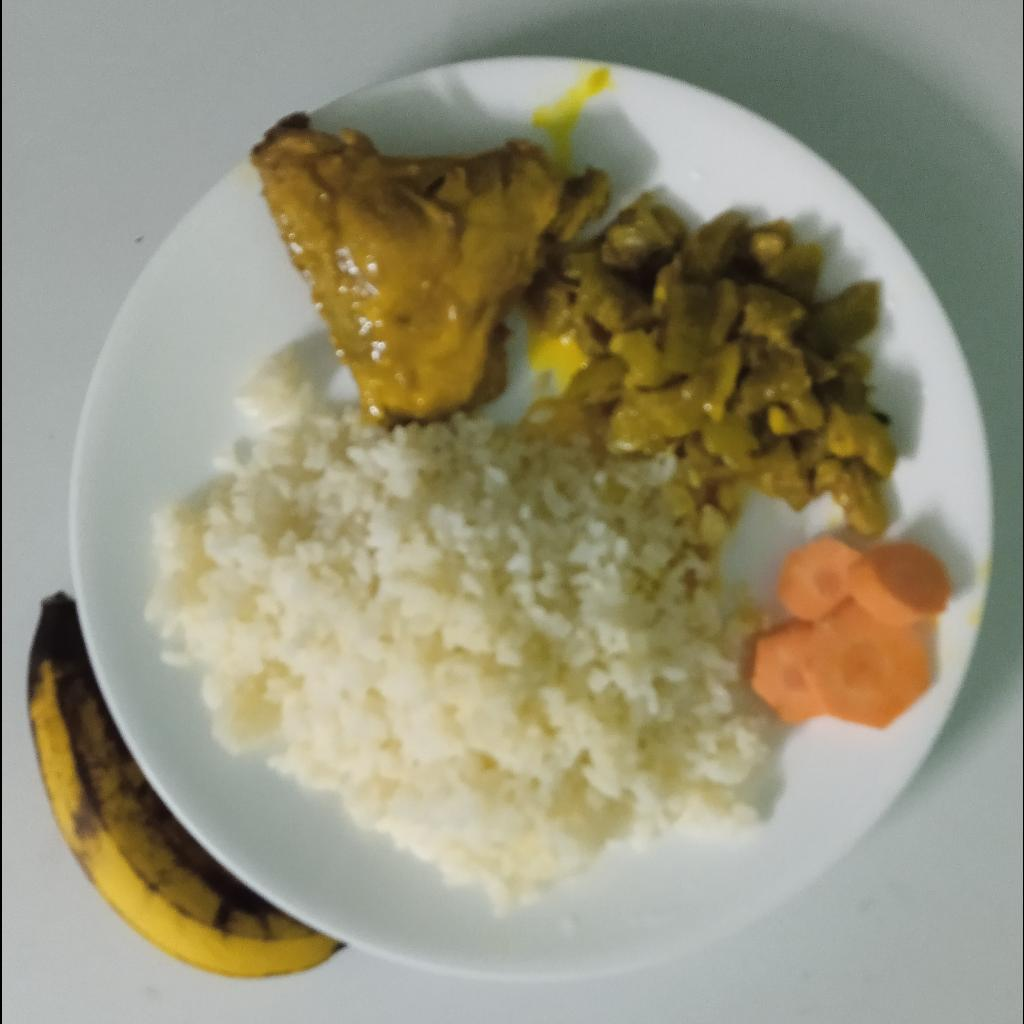banana: (23, 589, 341, 982)
carrot: (752, 536, 951, 729)
chicken: (247, 113, 614, 426)
dundol: (529, 192, 903, 534)
rice: (136, 342, 768, 914)
